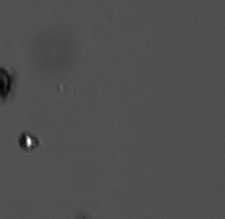Dead Cell: (1, 66, 14, 102)
Living Cell: (18, 131, 39, 152)
